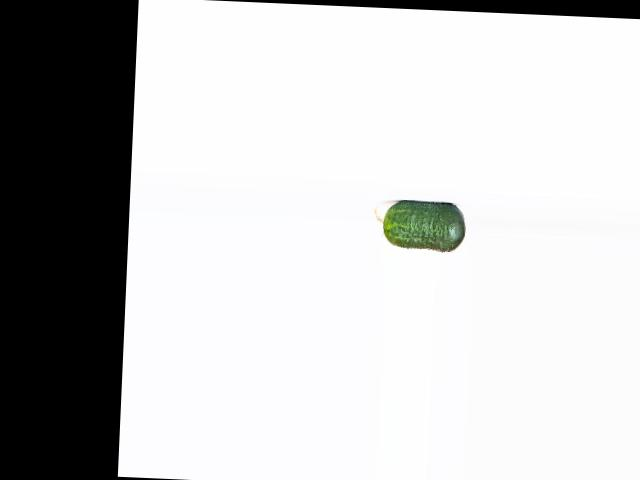cucumber: (372, 198, 465, 253)
